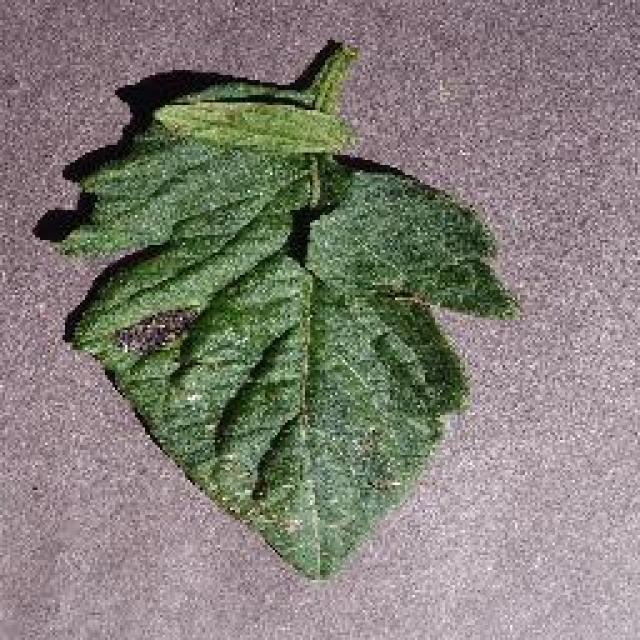Tomato___Early_blight: (41, 44, 527, 582)
